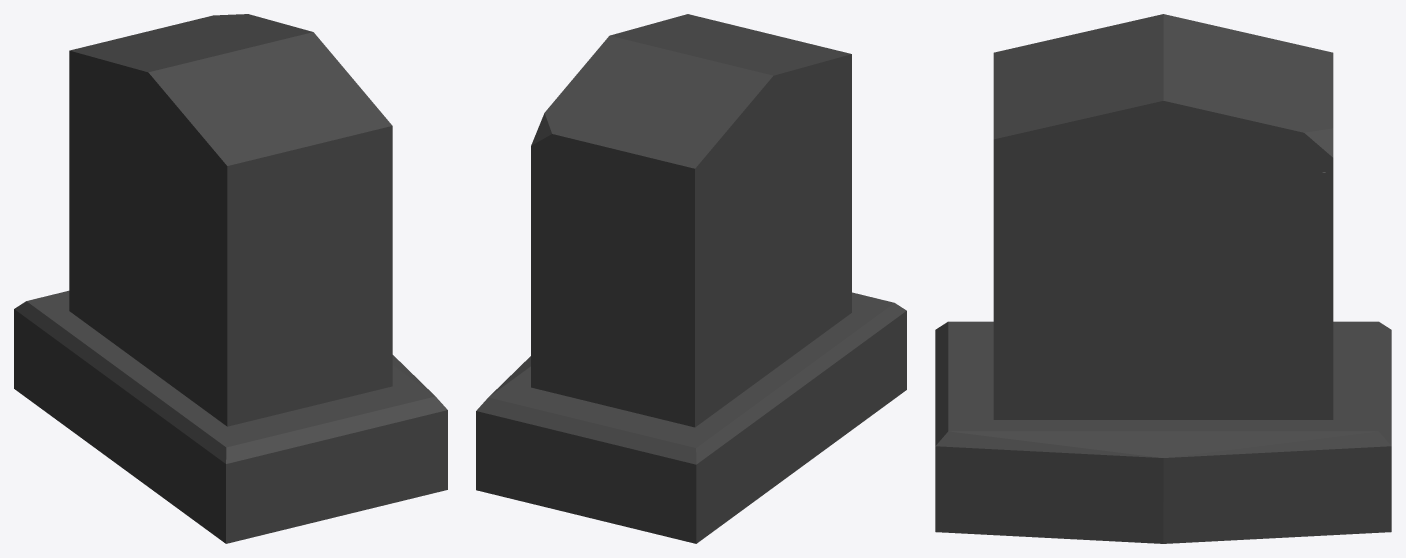
File: Gravestone.fbx
3 views of the same model, side by side, from view 1: azimuth 30°, elevation 25°; view 2: azimuth 150°, elevation 25°; view 3: azimuth 270°, elevation 25° (orthographic). The views are drawn at different scales.
Visible parts, largest first — view 1: Cube; view 2: Cube; view 3: Cube.
Boxes of the visible parts, x1=… form: Cube: x1=14, y1=14, x2=447, y2=543; Cube: x1=476, y1=14, x2=906, y2=543; Cube: x1=935, y1=14, x2=1391, y2=543.
Size of the model in its own units: 220 by 334 by 331.
